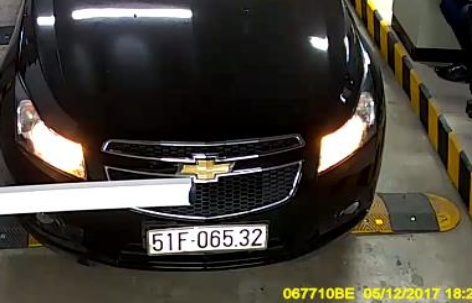plate: (141, 220, 268, 256)
